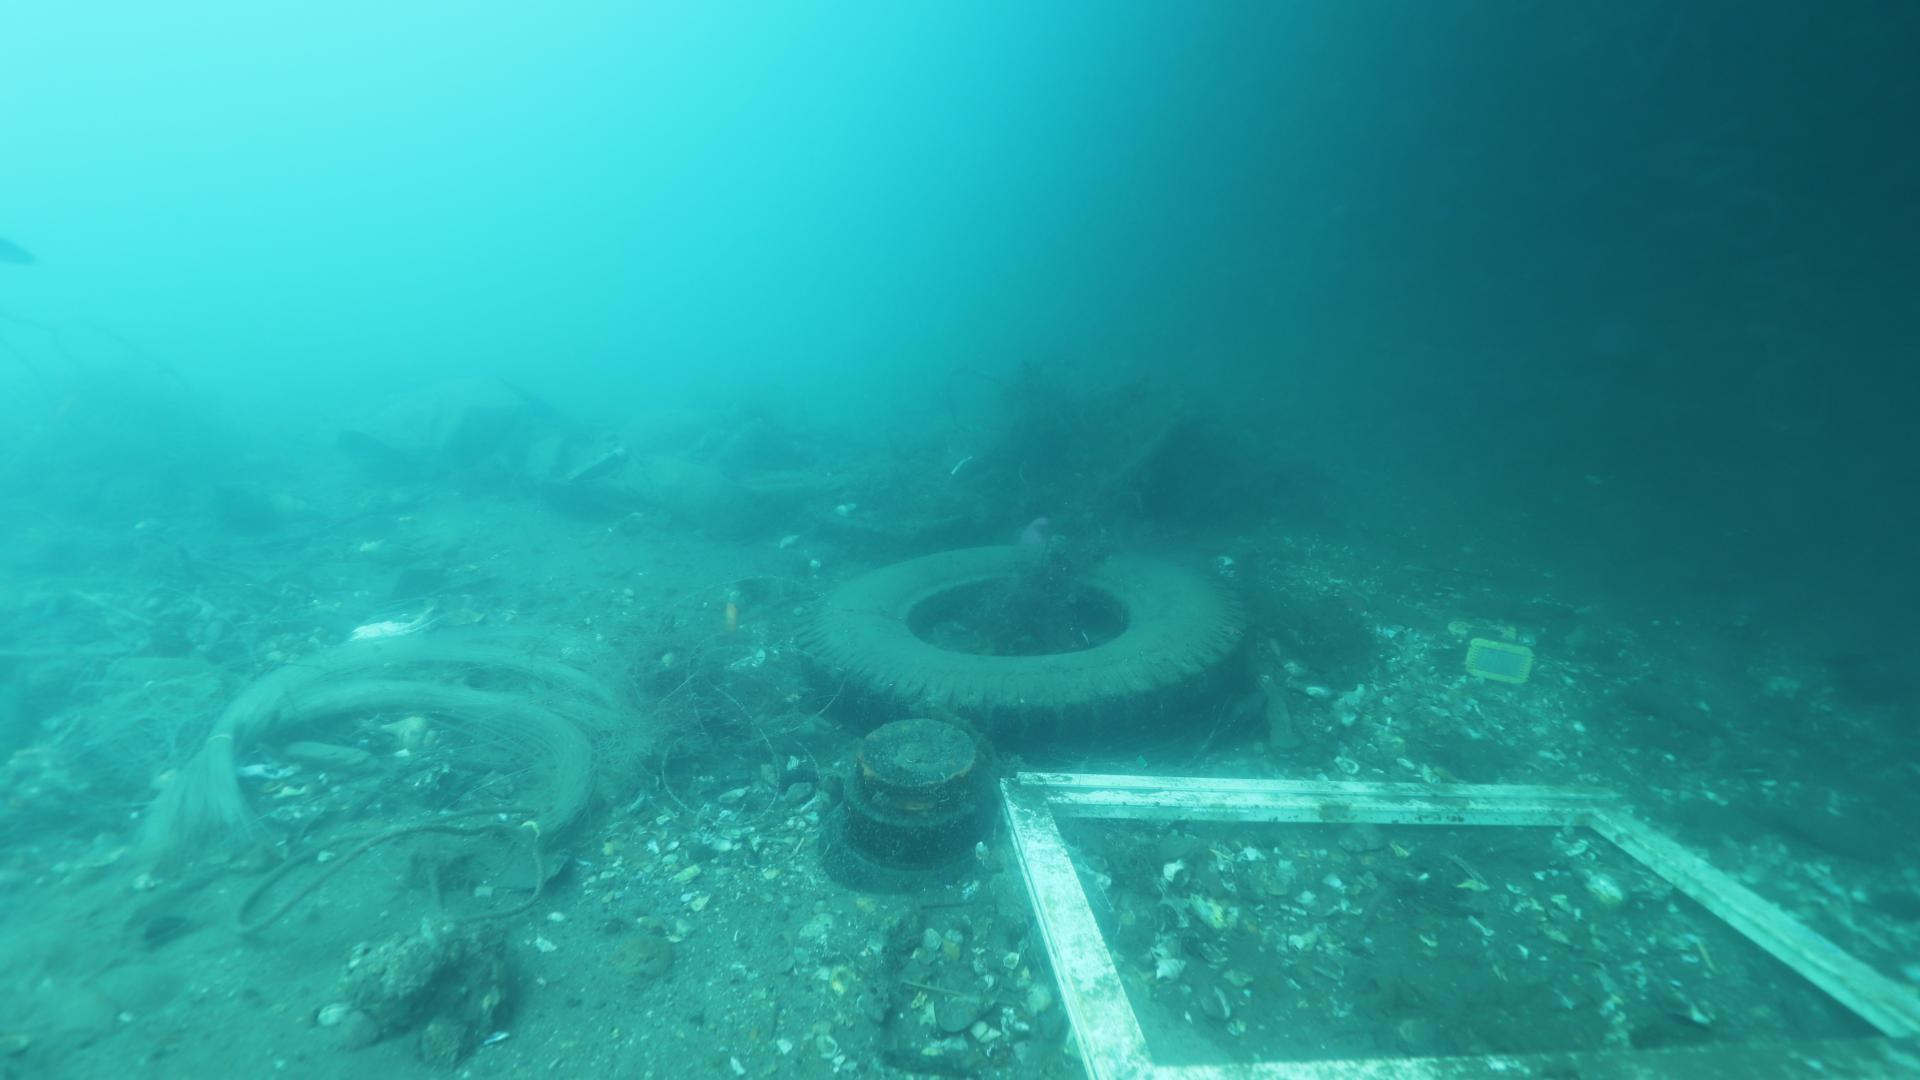tire: (790, 545, 1259, 748)
